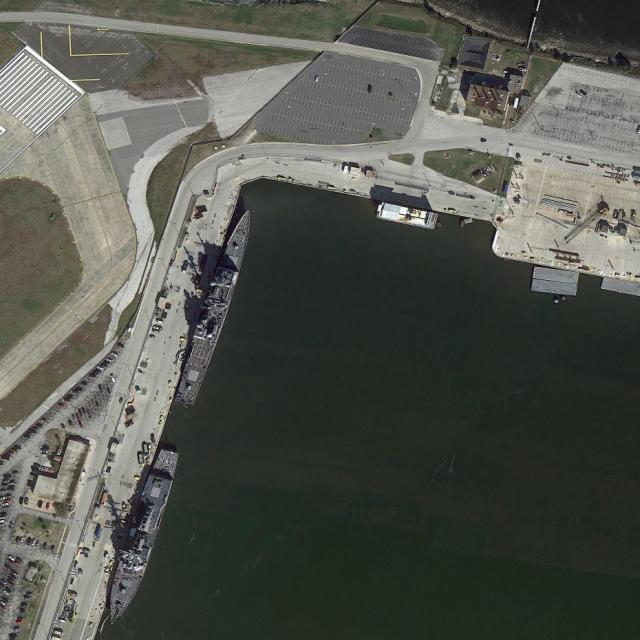Cruiser: (171, 208, 259, 406)
Destroyer: (100, 445, 182, 625)
